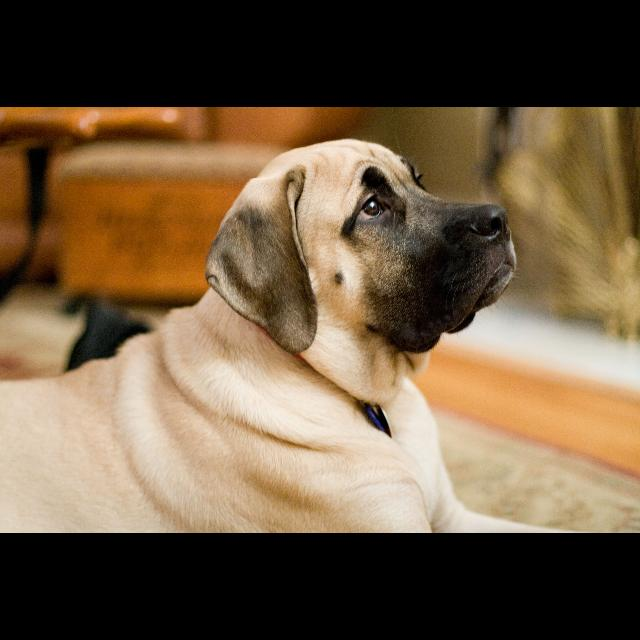mastiff: (3, 139, 576, 534)
